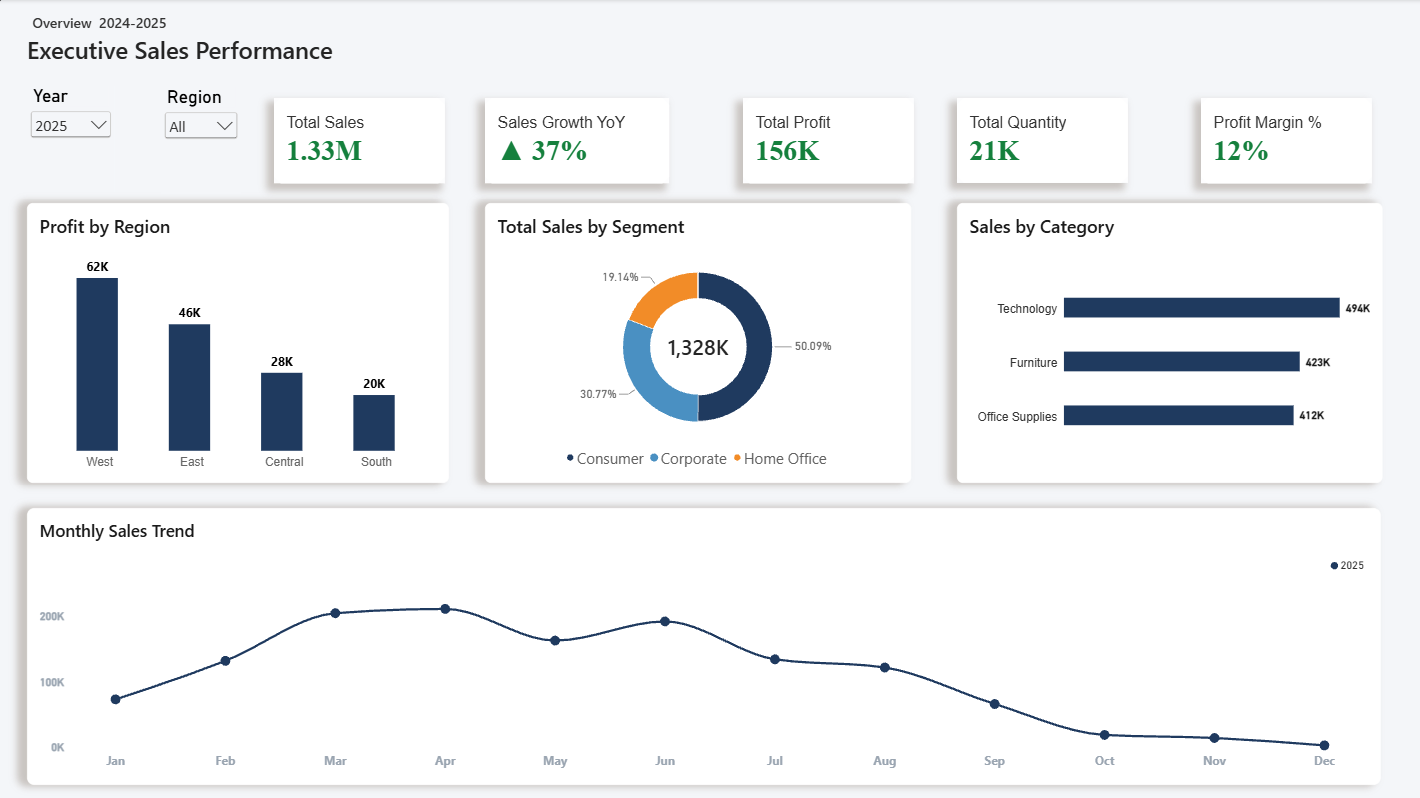

The dashboard page shown, as its layout file describes it:
{"tool":"powerbi","page":{"name":"Page 1","canvas":[1920,1080],"ordinal":0},"visuals":[{"type":"lineChart","title":"Monthly Sales Trend","fields":{"Category":["Date.Month Neam"],"Series":["Date.Year"],"Y":["Fact.Total Sales"]},"box":[38.3,685,1823.3,373.3],"z":0},{"type":"clusteredBarChart","title":"Sales by Category","fields":{"Category":["Prodcat dim.Category"],"Y":["Fact.Total Sales"]},"box":[1290,275,573.3,376.7],"z":1000},{"type":"clusteredColumnChart","title":"Profit by Region","fields":{"Category":["Loction dim.Region"],"Y":["Prodcat dim.Total Profit"]},"box":[38.3,275,568.3,376.7],"z":2000},{"type":"donutChart","fields":{"Category":["customer dim.Segment"],"Y":["Fact.Total Sales"]},"box":[654.5,274.7,573.7,377.1],"z":3000},{"type":"cardVisual","fields":{"Data":["Fact.Sales Color"]},"box":[370,133.3,230,115],"z":4000},{"type":"cardVisual","fields":{"Data":["Prodcat dim.Total Quantity"]},"box":[1290,133.3,230.3,114.5],"z":5000},{"type":"cardVisual","fields":{"Data":["Prodcat dim.Total Profit"]},"box":[1001.7,133.3,230,115],"z":6000},{"type":"cardVisual","fields":{"Data":["Prodcat dim.Profit Margin %"]},"box":[1618.3,133.3,230,115],"z":7000},{"type":"slicer","fields":{"Values":["Date.Year"]},"box":[38.3,116.7,118.3,143.3],"z":8000},{"type":"textbox","title":"Sales Performance Executive ","box":[38.3,10,515,105],"z":10000},{"type":"cardVisual","fields":{"Data":["Date.Sales Growth Display"]},"box":[655,133.3,248.3,115],"z":11000},{"type":"slicer","fields":{"Values":["Loction dim.Region"]},"box":[218.3,118.3,107.5,143.8],"z":11500}]}

Visuals, with their boxes in screenshot pixels (x1, y1, x2, y2), scaled from the page's 1920x1080 canvas onto the 1420x798 screenshot:
"Monthly Sales Trend" lineChart: [28, 506, 1377, 782]
"Sales by Category" clusteredBarChart: [954, 203, 1378, 482]
"Profit by Region" clusteredColumnChart: [28, 203, 449, 482]
donutChart - customer dim.Segment x Fact.Total Sales: [484, 203, 908, 482]
cardVisual - Fact.Sales Color: [274, 98, 444, 183]
cardVisual - Prodcat dim.Total Quantity: [954, 98, 1124, 183]
cardVisual - Prodcat dim.Total Profit: [741, 98, 911, 183]
cardVisual - Prodcat dim.Profit Margin %: [1197, 98, 1367, 183]
slicer - Date.Year: [28, 86, 116, 192]
"Sales Performance Executive " textbox: [28, 7, 409, 85]
cardVisual - Date.Sales Growth Display: [484, 98, 668, 183]
slicer - Loction dim.Region: [161, 87, 241, 194]
